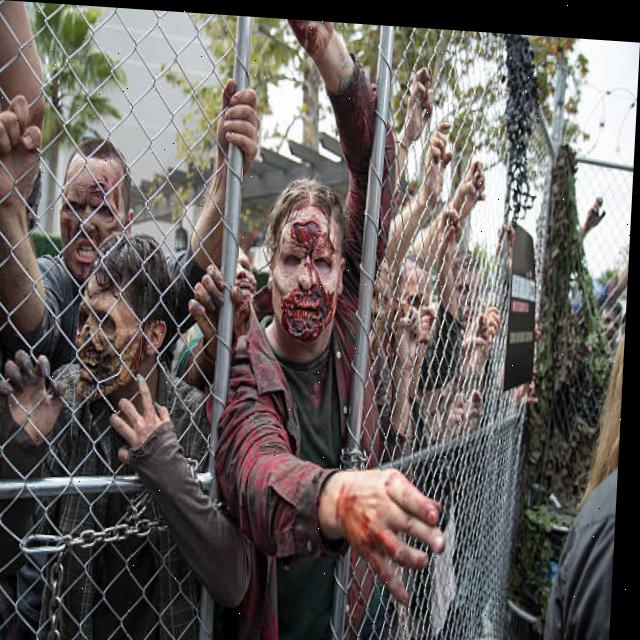Zombie: (67, 245, 175, 412), (273, 181, 347, 343), (61, 131, 130, 276), (457, 244, 488, 312), (372, 260, 399, 337), (408, 262, 438, 327), (235, 243, 262, 304), (602, 295, 625, 330), (417, 330, 436, 345)
